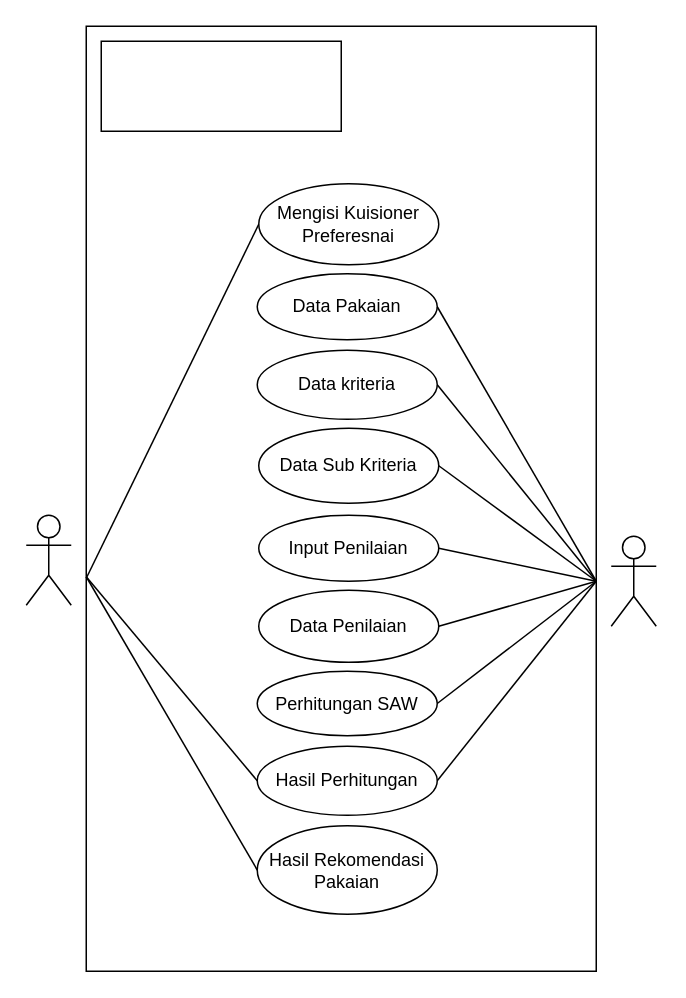
Image size: 686x998. Some labels were removed from this diagram. The shapes that lost their labels are listed below. From the top down, each one's centre as x and y in pixels, then its label:
At (x=220, y=85): "Use Case Sistem Pendukung Keputusan Virtual Assistant Pemilihan Pakaian".
At (x=48, y=559): "User".
At (x=633, y=580): "Admin".
